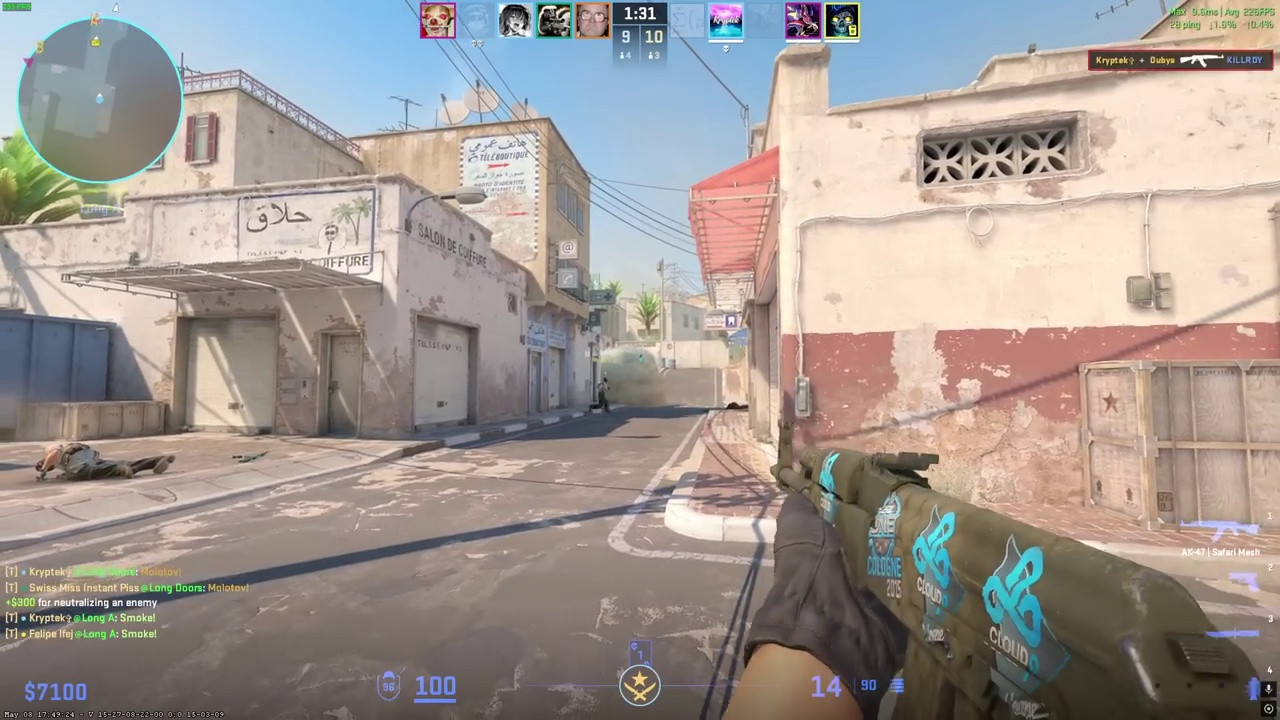Terrorist: (593, 376, 613, 413)
